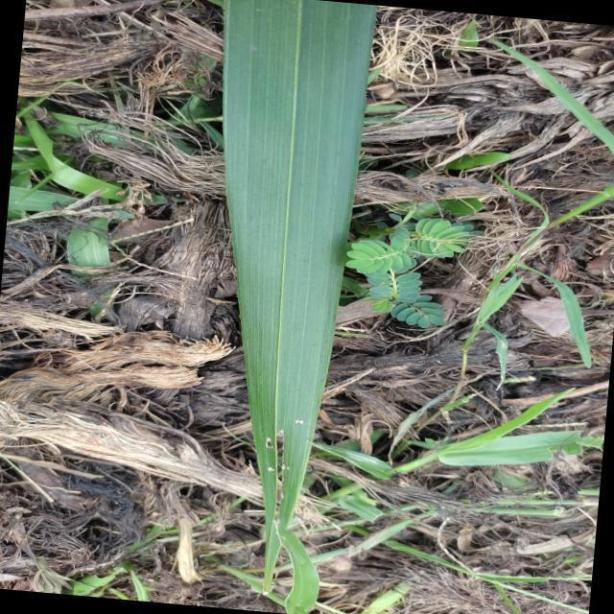Boron: (219, 0, 379, 614)
